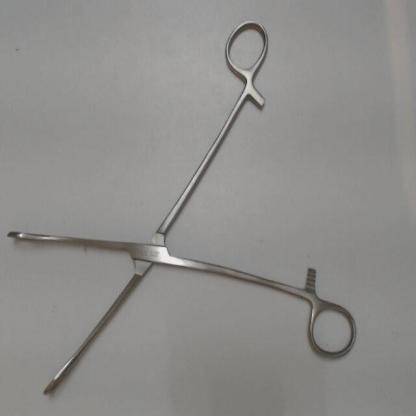Sponge Forceps: (3, 10, 360, 408)
